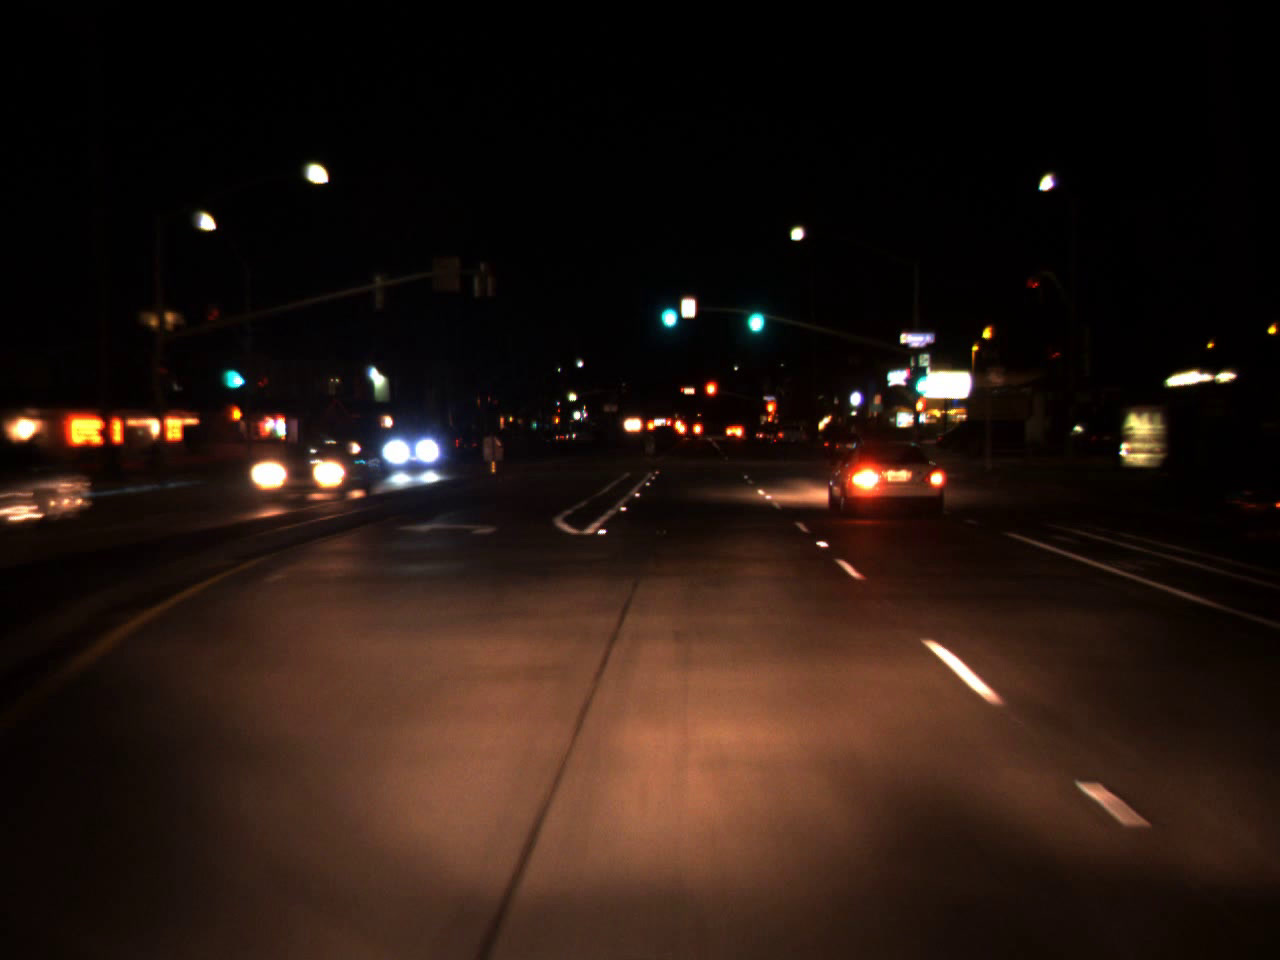go: (741, 288, 768, 339), (655, 287, 680, 332), (910, 353, 931, 398), (222, 349, 241, 394)
stop: (763, 399, 778, 431), (703, 378, 717, 413)
